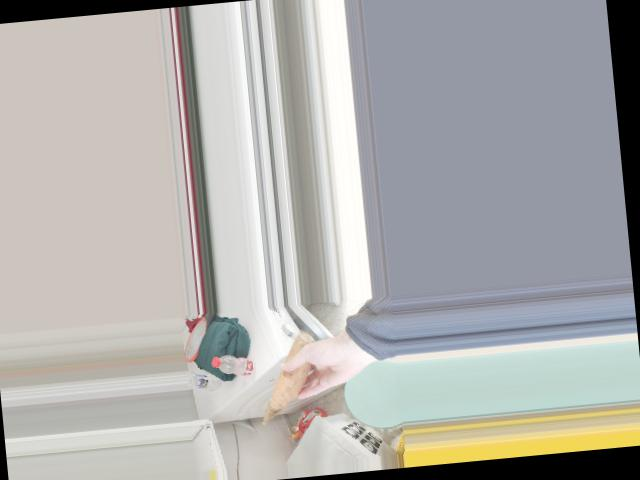sweet_potato: (263, 351, 314, 403)
